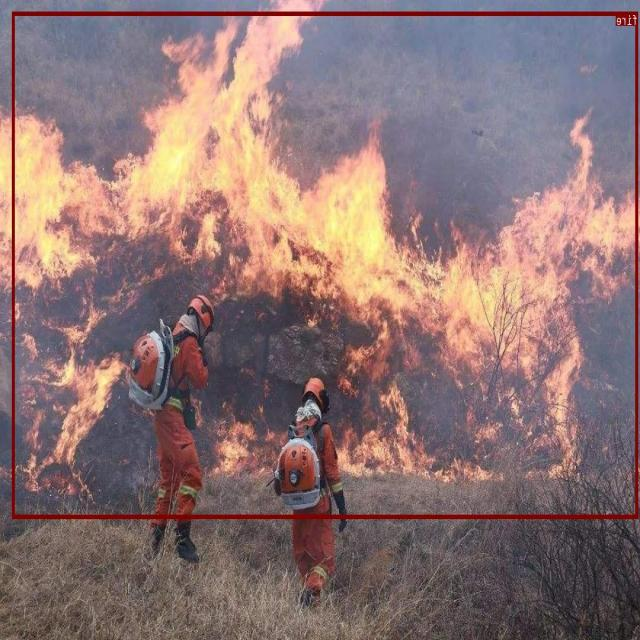fire: (12, 11, 638, 517)
